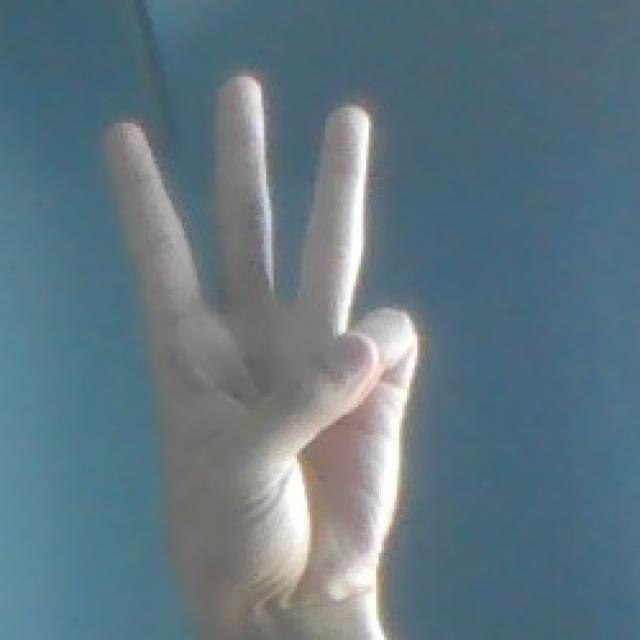Numeric-6: (88, 56, 430, 626)
